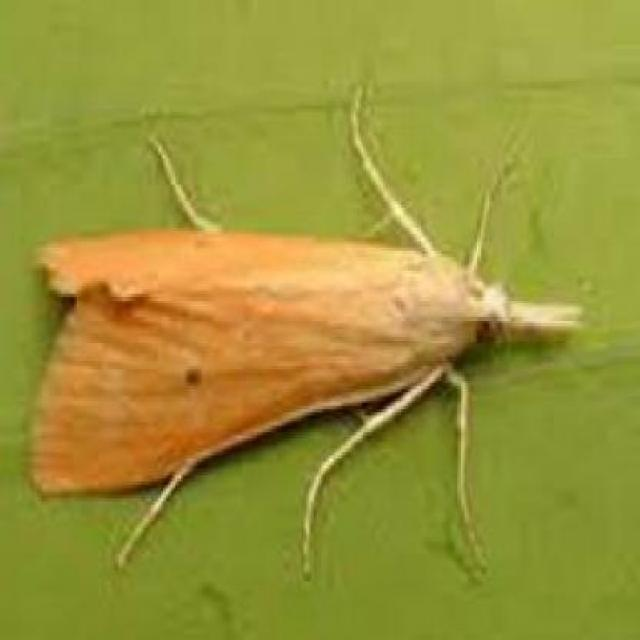stem-borer: (25, 83, 586, 580)
